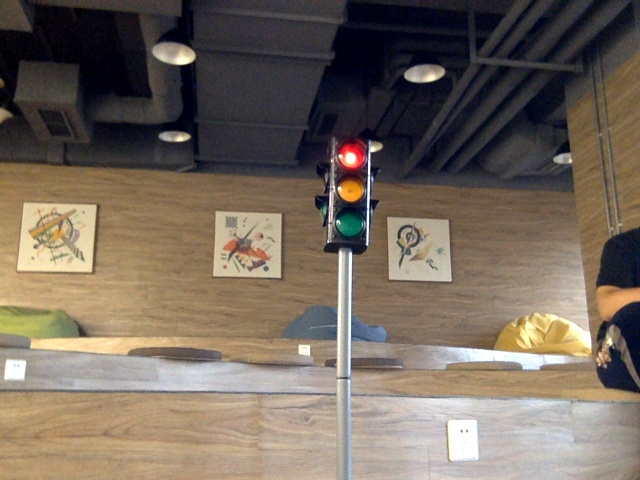red: (331, 146, 365, 241)
